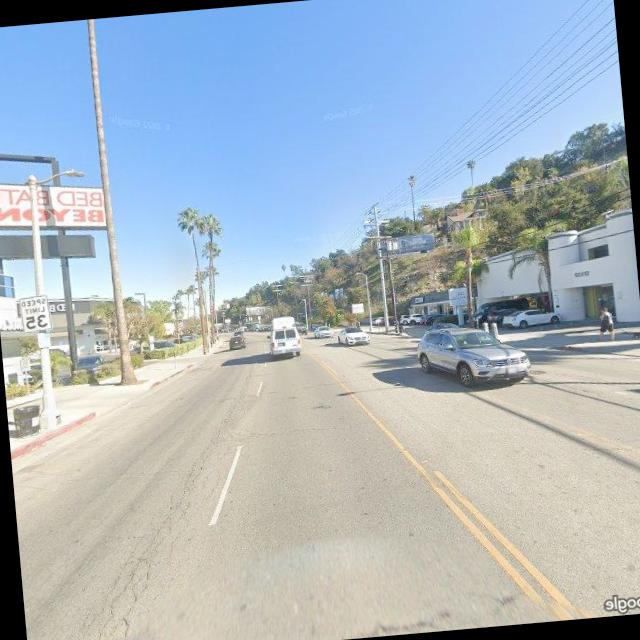crack: (89, 372, 273, 634)
